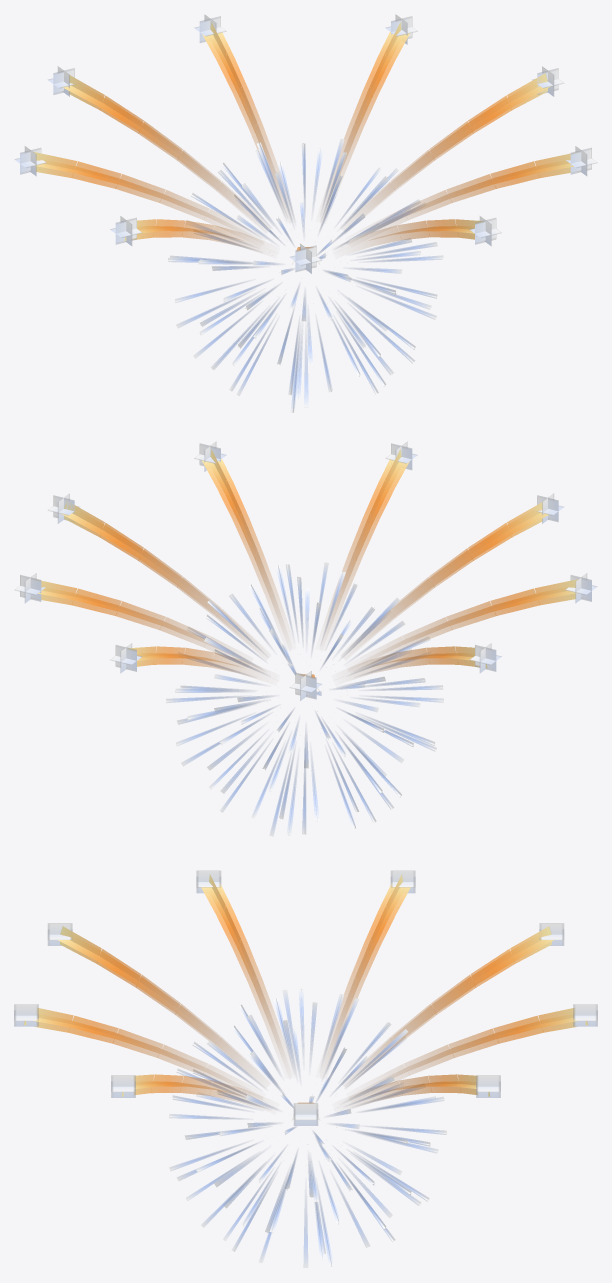
The model's file is fw_palm_gold_silver_a.glb.
3 renders of one model, top to bottom at view 1: azimuth 30°, elevation 25°; view 2: azimuth 150°, elevation 25°; view 3: azimuth 270°, elevation 25°, orthographic.
Visible parts, largest first — view 1: spire; view 2: spire; view 3: spire.
Part boxes in pixels (<box>): spire: <box>14,14,597,412</box>; spire: <box>15,441,597,836</box>; spire: <box>14,870,597,1267</box>.
Size of the model in its own units: 16.22 by 8.52 by 16.46.
3 materials, 3 textured.
